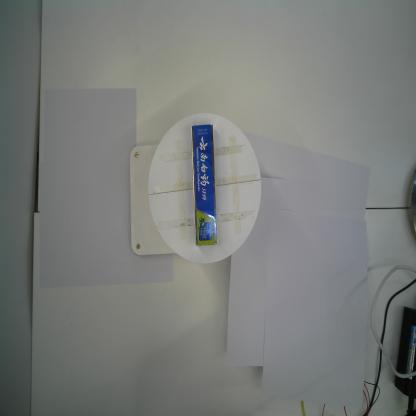Personal Hygiene: (191, 124, 218, 248)
